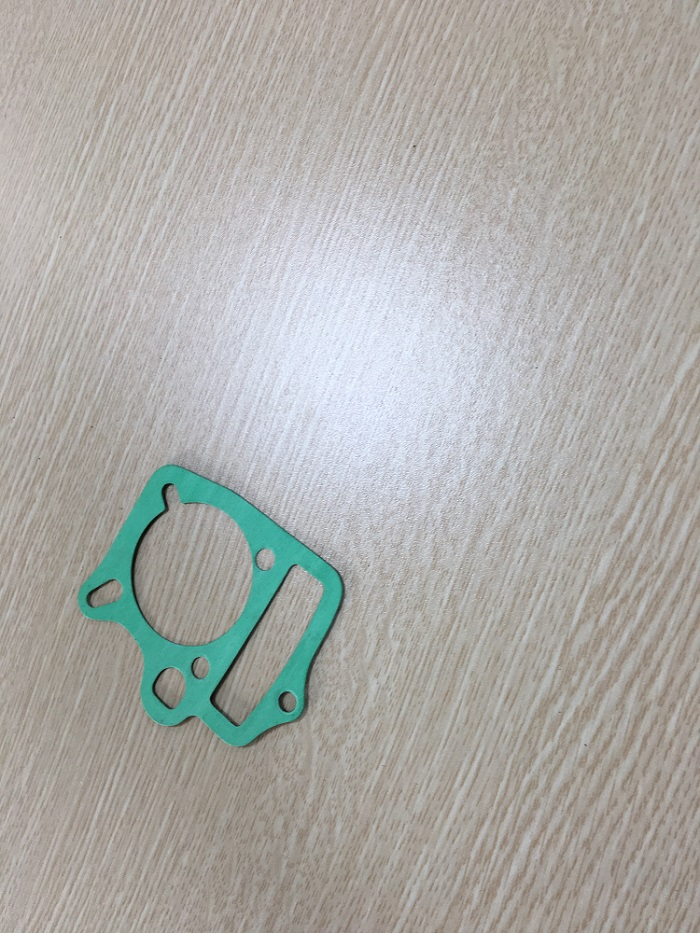circle 1: (122, 460, 260, 653)
circle 2: (139, 659, 194, 723)
circle 3: (72, 570, 130, 619)
circle 4: (246, 540, 283, 576)
circle 5: (266, 682, 306, 720)
circle 6: (202, 556, 333, 733)
object: (27, 424, 407, 783)
